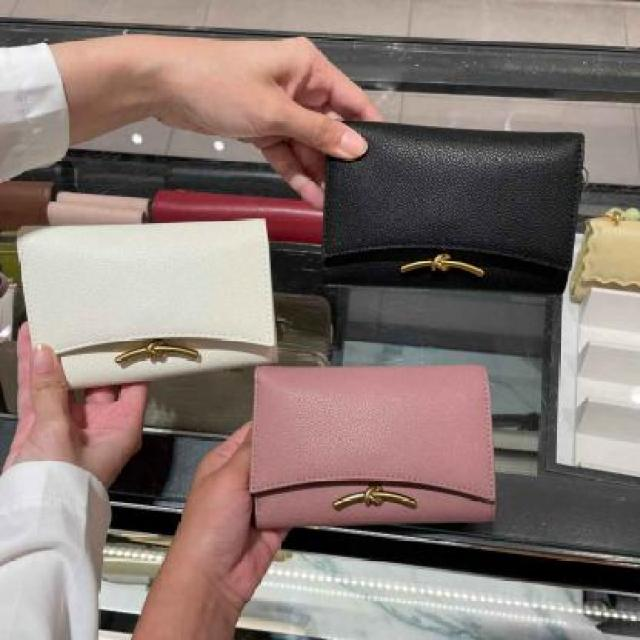Bag: (217, 330, 512, 565), (0, 184, 295, 413), (316, 102, 596, 306)
